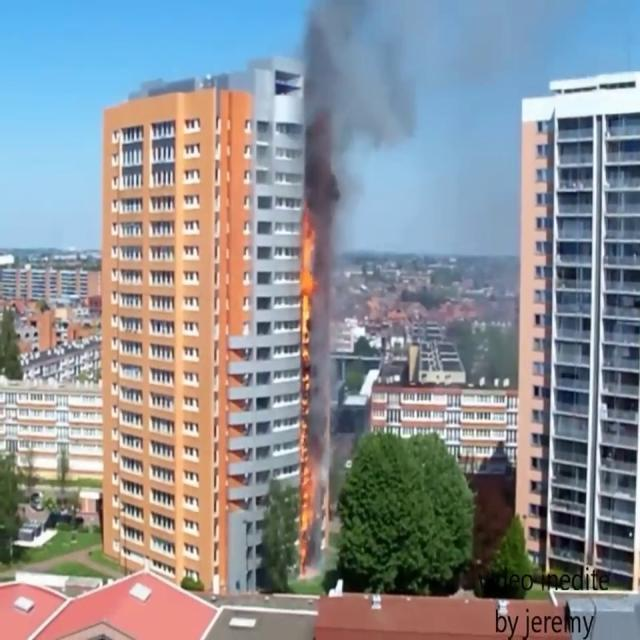Fire: (296, 214, 318, 364)
Smoke: (291, 0, 437, 236)
